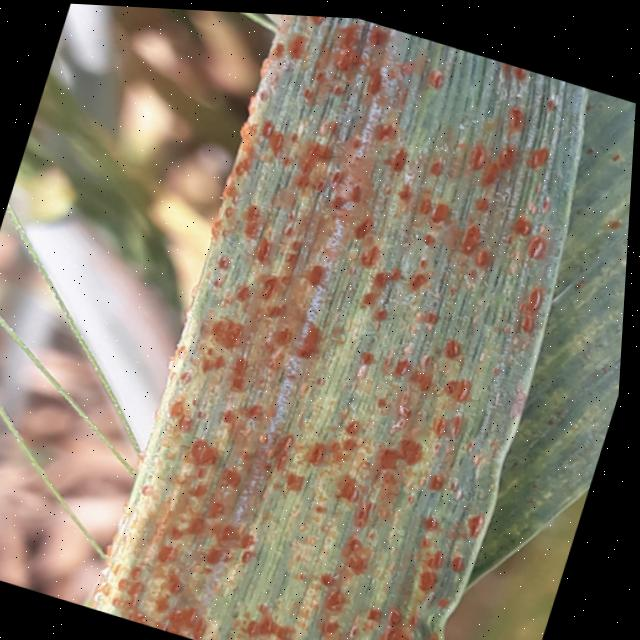orang_rust: (82, 5, 628, 640), (446, 78, 637, 606)
